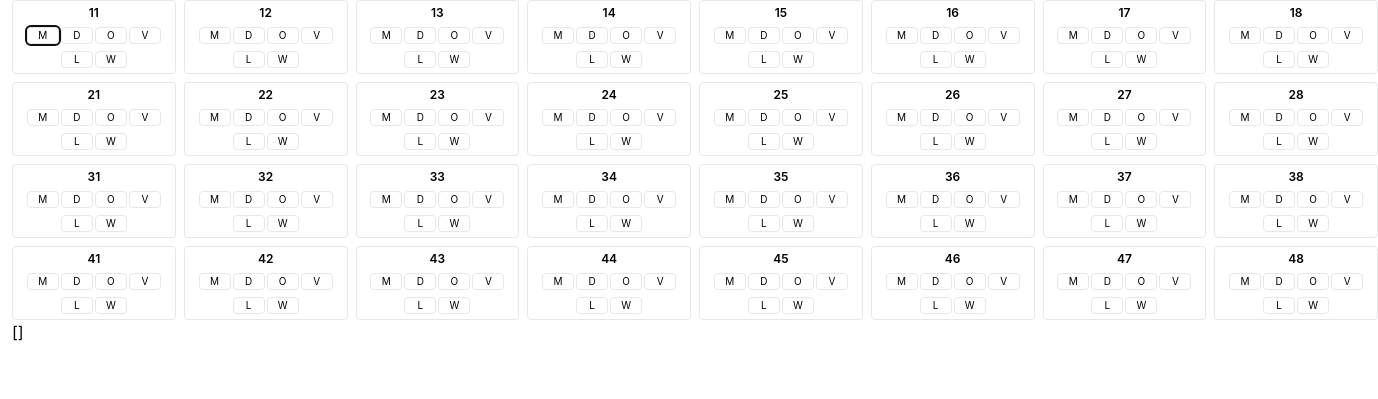
Odontogram › marca 36/O con teclado, la etiqueta accesible lo anuncia y queda en el borrador
Press Arrowright
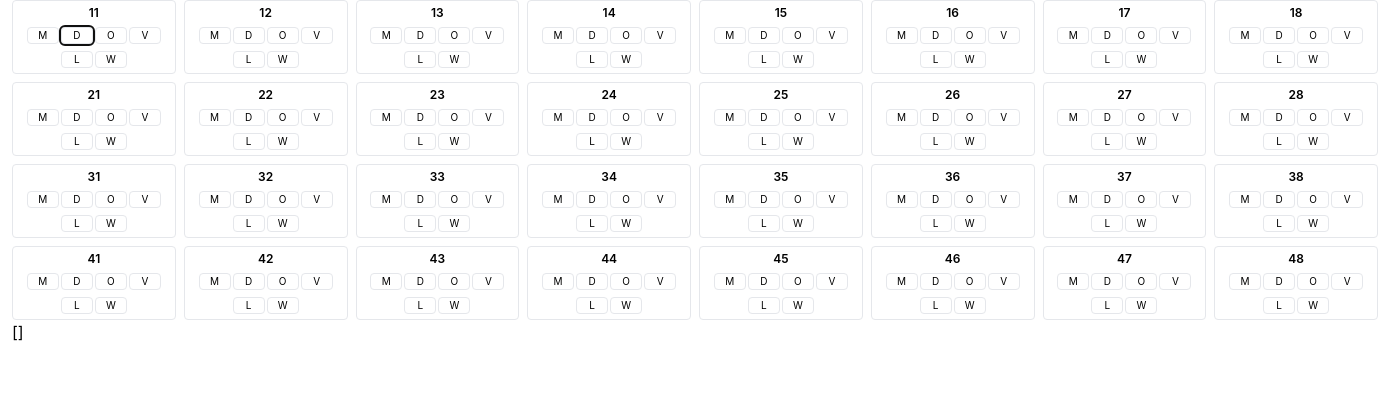
Click the cell named "Pieza 36, cara oclusal: sin hallazgos" at (970, 200), box [954,191,986,208]
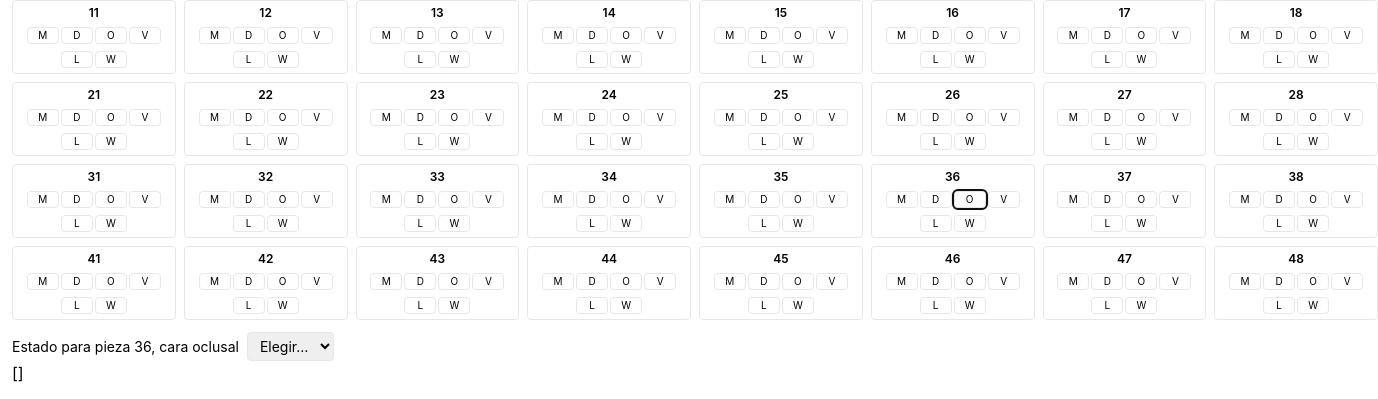
Select "Caries" in the dropdown labelled "Estado para pieza 36, cara oclusal" at (290, 346), box [247,332,334,361]
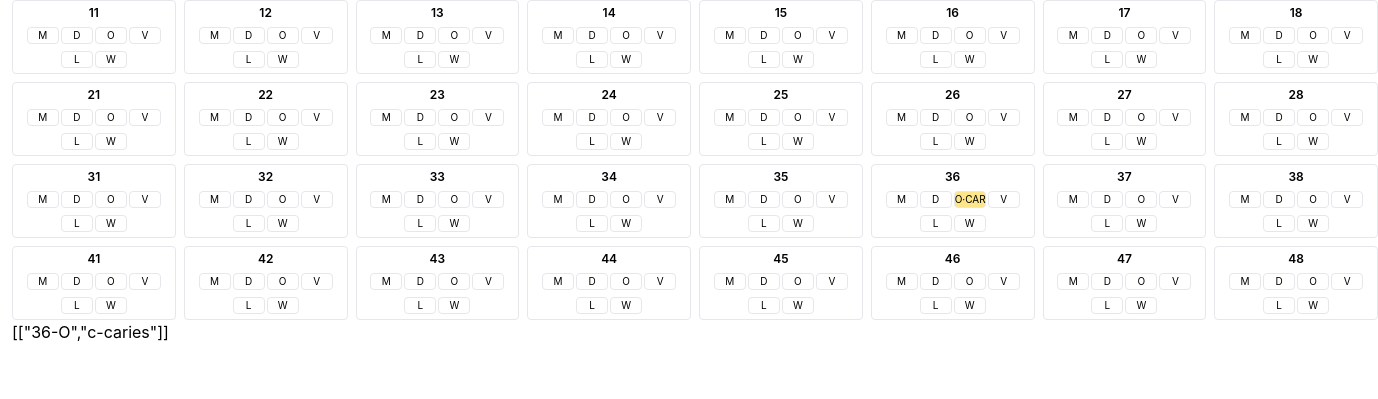
Check: the cell named "Pieza 36, cara oclusal: caries" shows "·CAR", box [954,191,986,208]
Check: the text with test id "draft" reads "[ [\"36-O\",\"c-caries\"]]", box [12,322,169,342]
